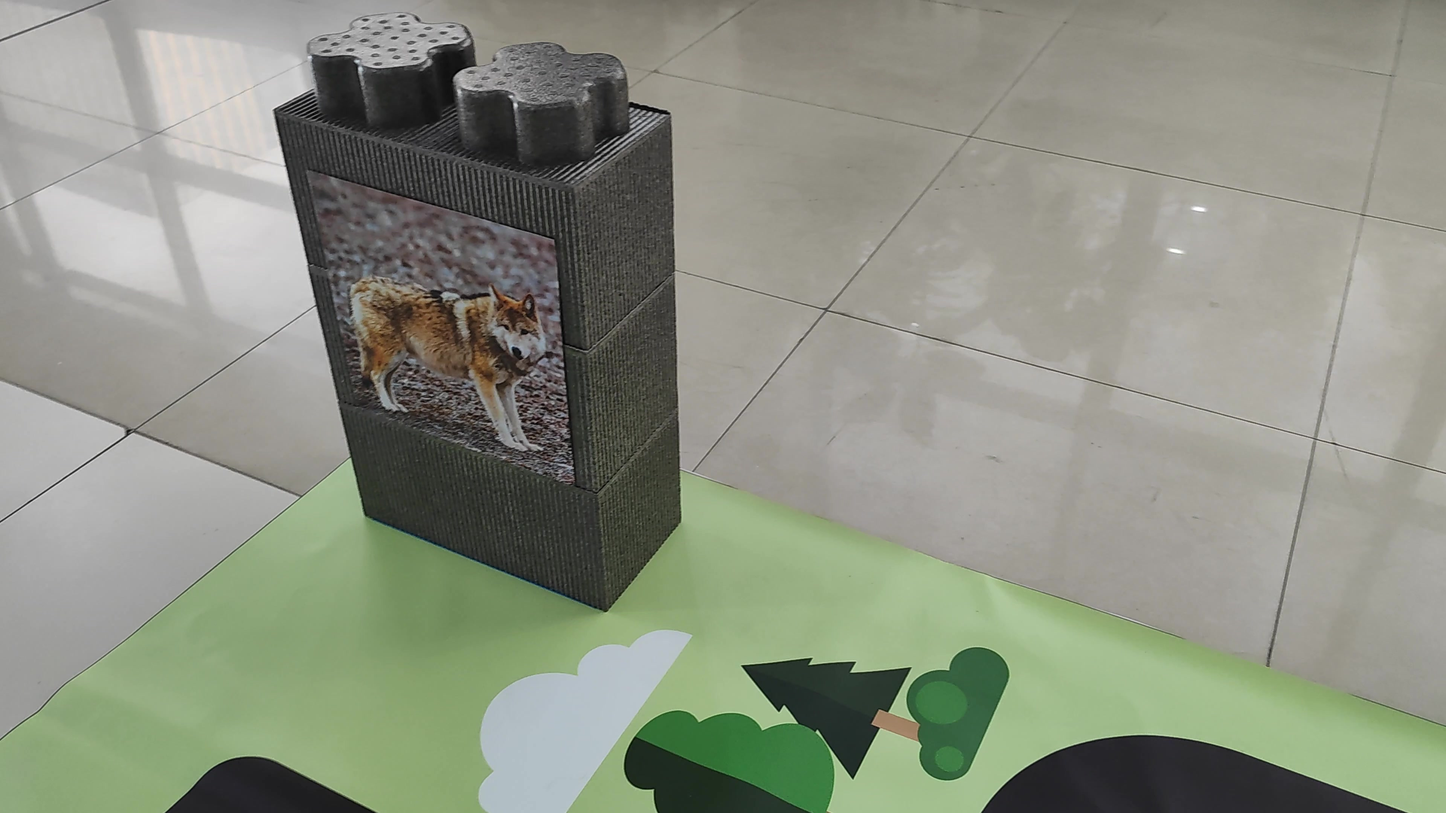wolf: (334, 236, 561, 463)
